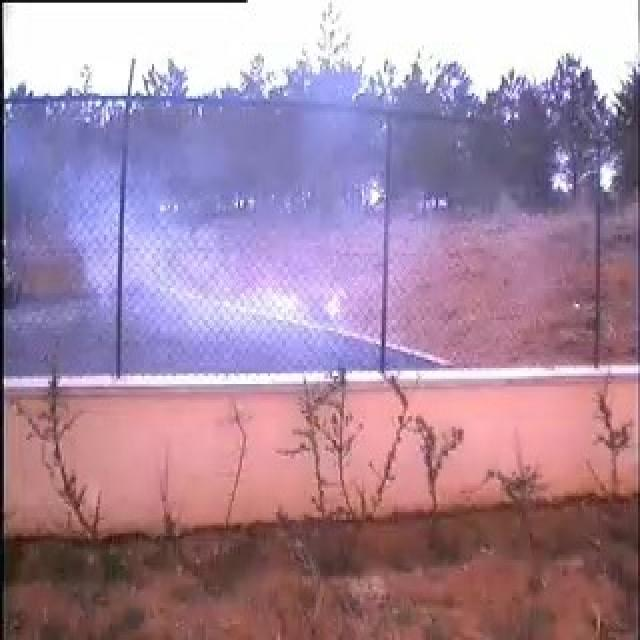smoke: (119, 113, 389, 382)
